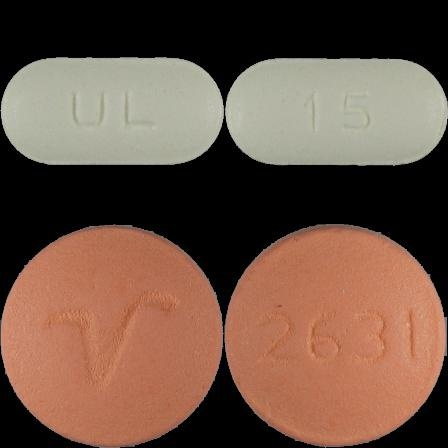50436-9787: (0, 0, 224, 224)
